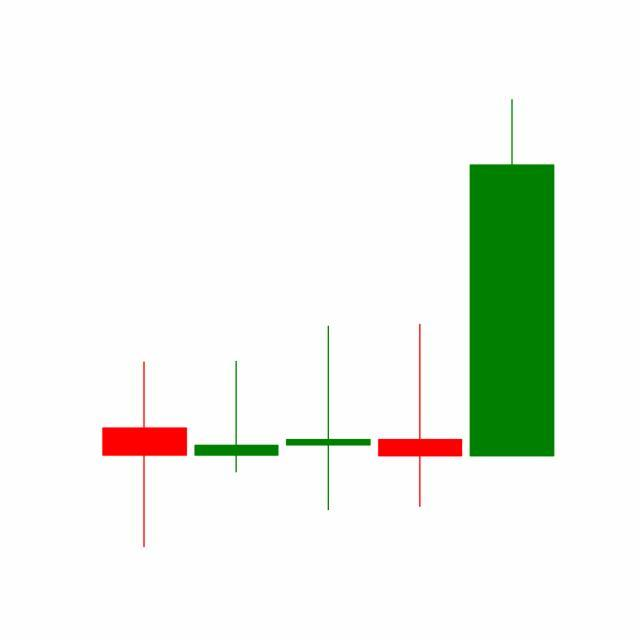Spinning Top: (374, 323, 468, 511)
